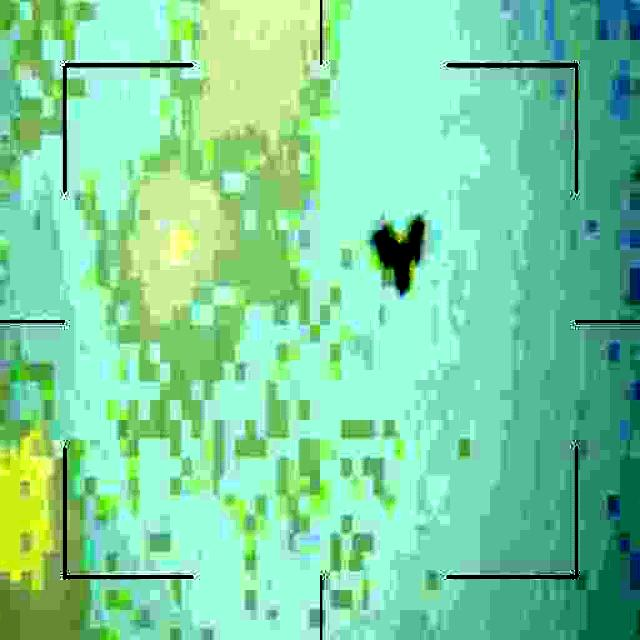bird: (376, 211, 425, 290)
